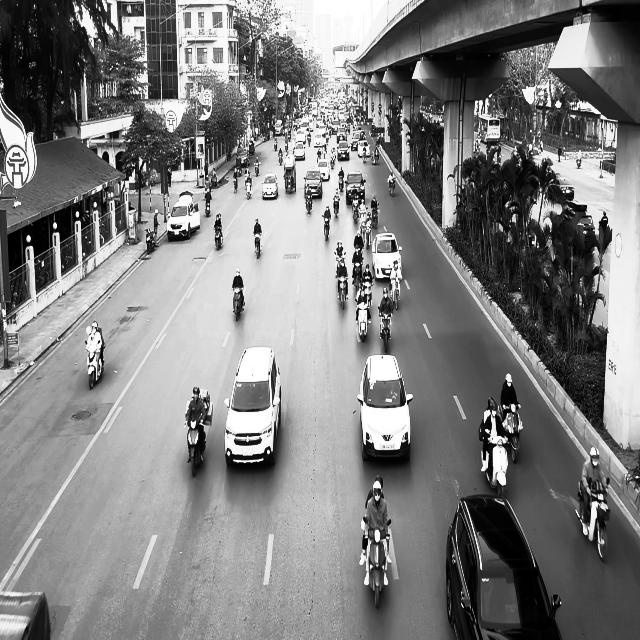car: (445, 494, 563, 640), (224, 346, 282, 466), (357, 354, 413, 462), (372, 232, 402, 280), (167, 199, 200, 241), (545, 174, 575, 201), (345, 171, 366, 205), (304, 168, 322, 198), (262, 173, 279, 199), (236, 148, 249, 168), (293, 142, 305, 160)
motorbike: (575, 477, 610, 562), (361, 516, 391, 609), (482, 434, 508, 497), (184, 417, 206, 477), (501, 403, 523, 462), (85, 341, 105, 389), (378, 305, 392, 353), (355, 298, 370, 342), (232, 286, 245, 321), (304, 184, 313, 213), (145, 228, 155, 254), (214, 224, 223, 250), (322, 213, 330, 240), (254, 233, 262, 258), (245, 177, 252, 200), (388, 177, 396, 197), (333, 196, 340, 217), (205, 193, 211, 216), (233, 173, 238, 193)
